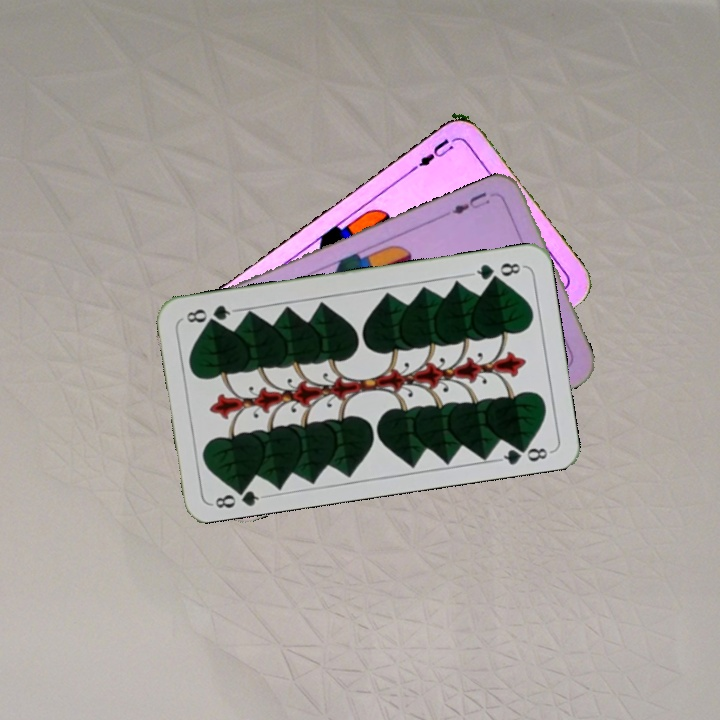EU: (407, 134, 457, 174), (447, 188, 493, 217)
G8: (208, 480, 267, 511), (467, 258, 526, 283)
